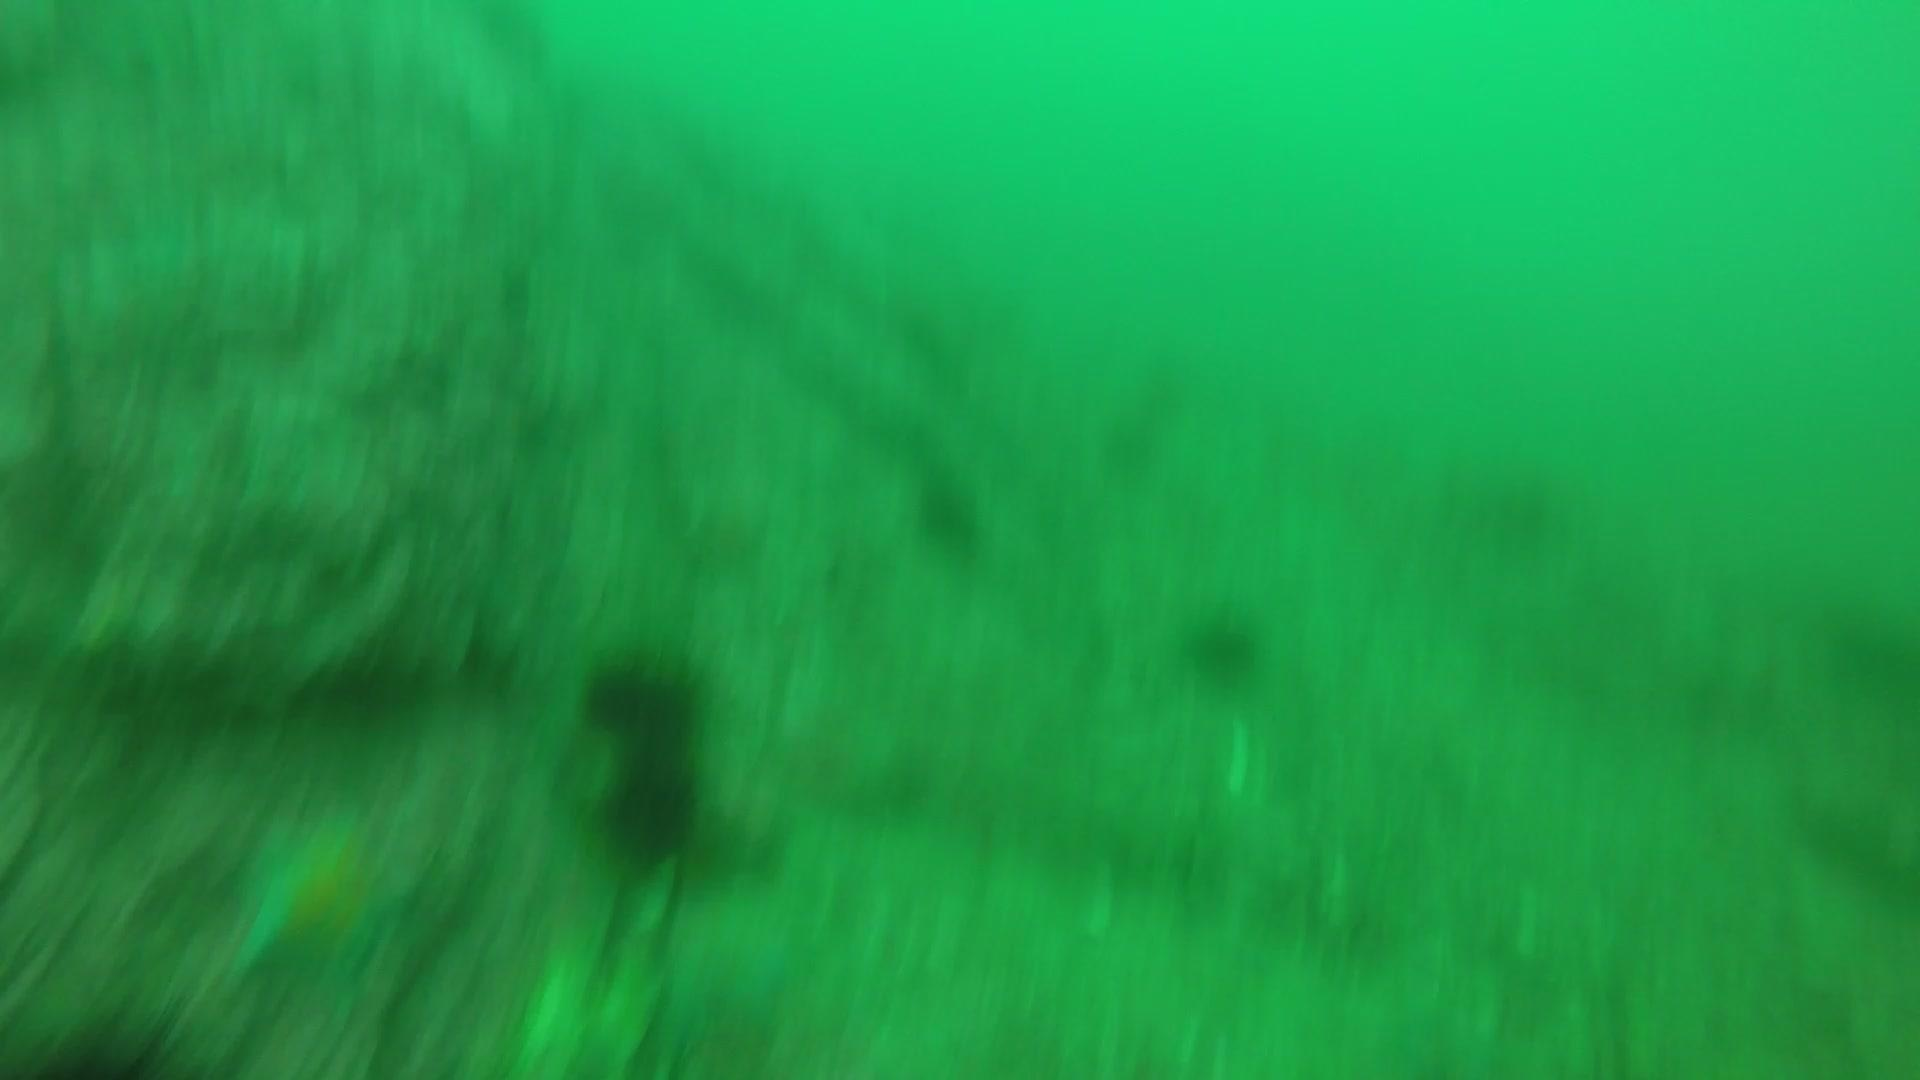echinus: (1440, 452, 1571, 556), (578, 644, 709, 742), (595, 753, 708, 868), (906, 465, 992, 560), (1178, 603, 1269, 688)
starfish: (224, 804, 427, 1007)
